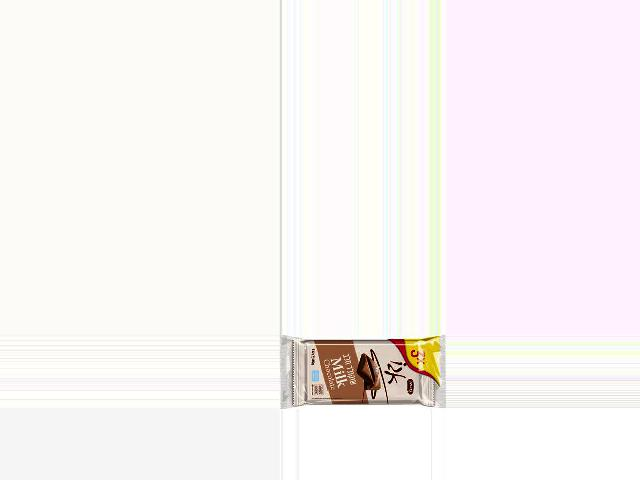chocolate: (295, 335, 446, 409)
